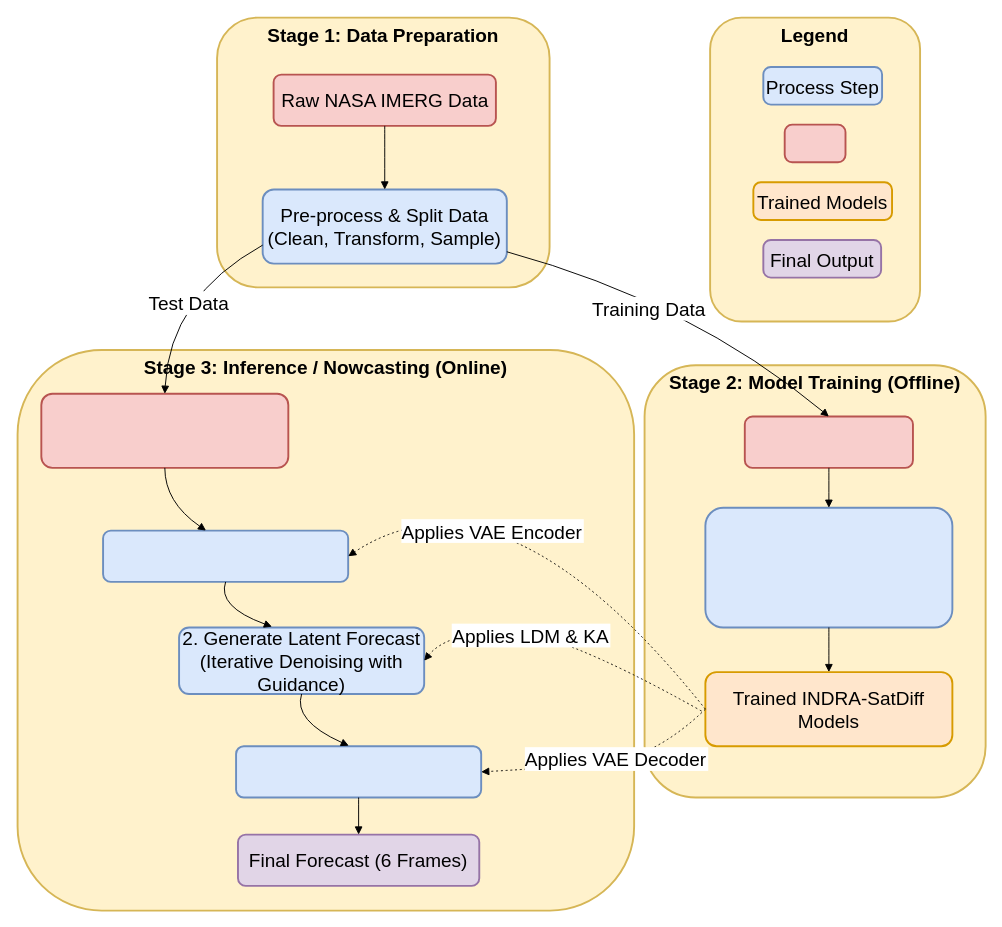
The diagram is 1002 pixels wide and 927 high, and some of its shapes have lost their labels. Each missing label, with the centre of its shape:
"1. Encode to Latent Space" belongs at [225,555].
"3. Decode to Pixel Space" belongs at [358,771].
"Data" belongs at [814,143].
"New Input Sequence (7 Frames)" belongs at [164,430].
"Train All Model Components (VAE, LDM Core, KA Network)" belongs at [828,567].
"Training Dataset" belongs at [828,441].
